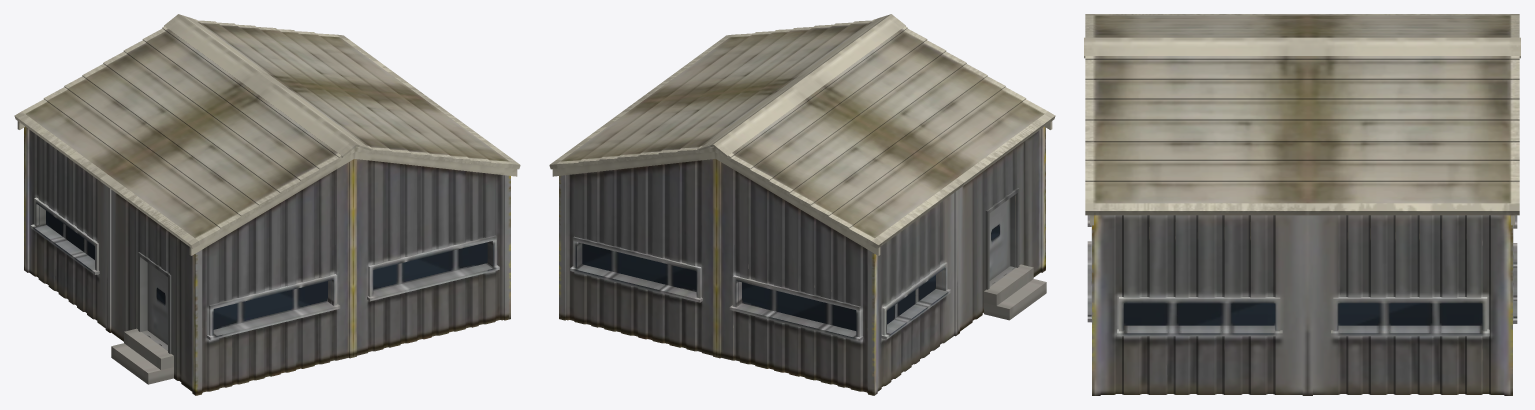
File: shack_cad.glb
The picture shows the model from 3 angles, left to right: view 1: azimuth 30°, elevation 25°; view 2: azimuth 150°, elevation 25°; view 3: azimuth 270°, elevation 25°; orthographic projection. The views are drawn at different scales.
Visible parts, largest first — view 1: Shack; view 2: Shack; view 3: Shack.
Part boxes in pixels (x1=…): Shack: x1=14, y1=14, x2=520, y2=395; Shack: x1=549, y1=14, x2=1055, y2=395; Shack: x1=1084, y1=14, x2=1520, y2=395.
Bounding box in the file's own units: 6.73 × 4 × 6.
Materials: 1 (1 with a texture image).
